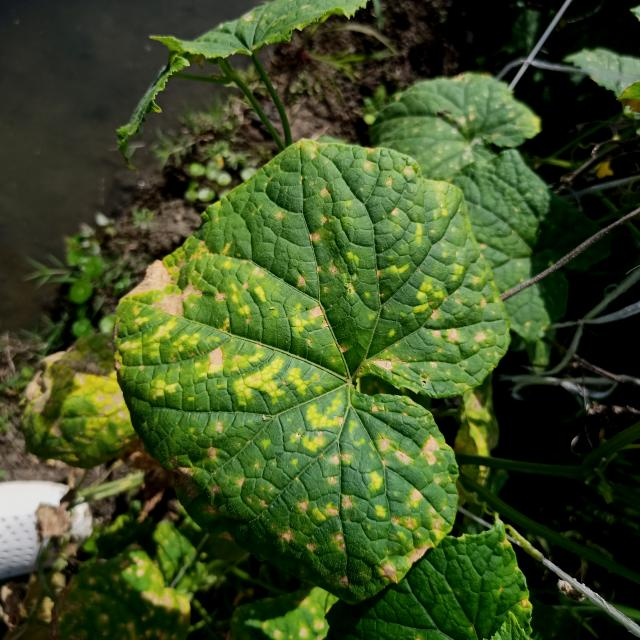disease_cucumber: (123, 175, 489, 589)
